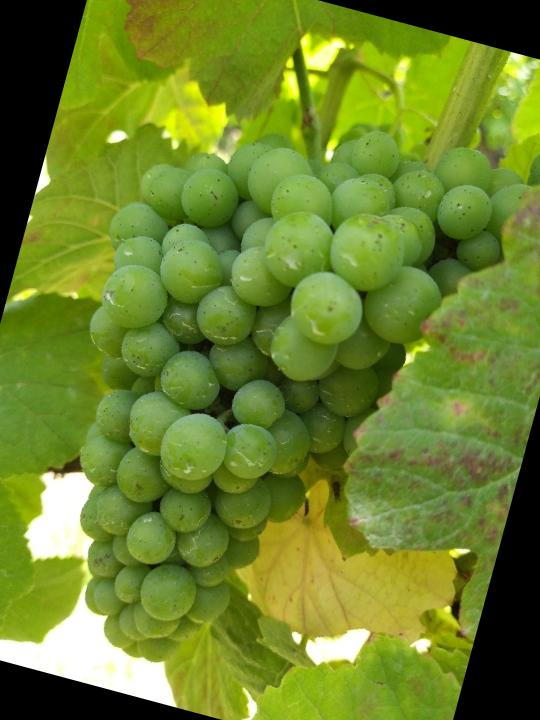grape: (0, 63, 540, 720)
